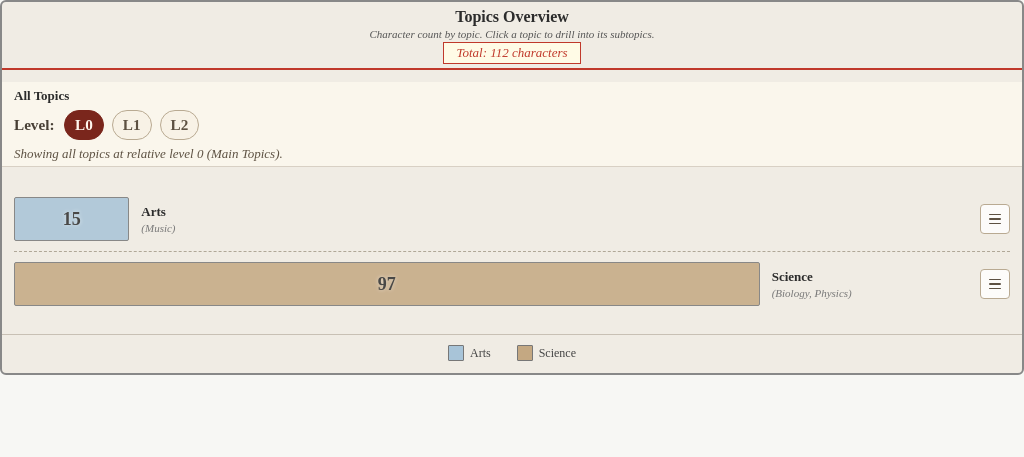
TopicsBarChart › preserves the selected relative level when navigating back through breadcrumbs
The image size is (1024, 457).
Click the button with test id "topics-bar-chart-row-science". click: click(492, 284)
box: [14,262,970,306]
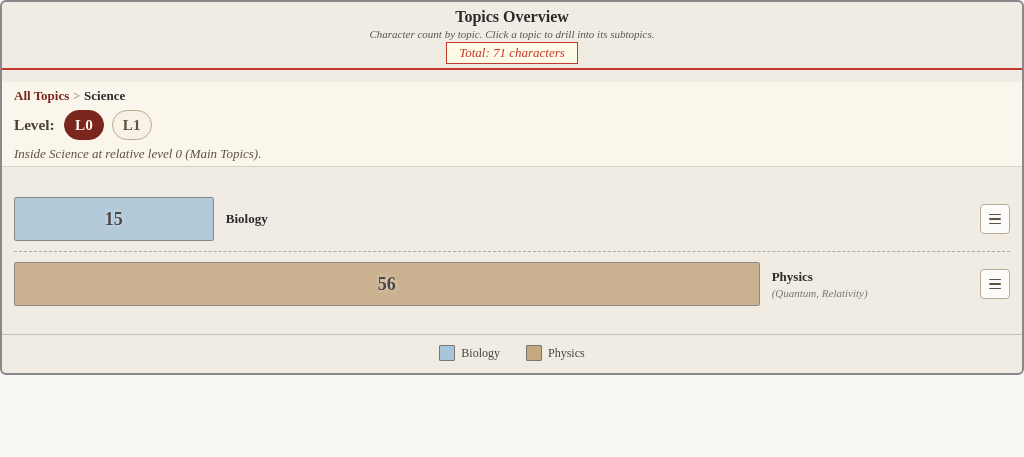
Click the button "L1". click: click(132, 125)
box: [112,110,152,140]
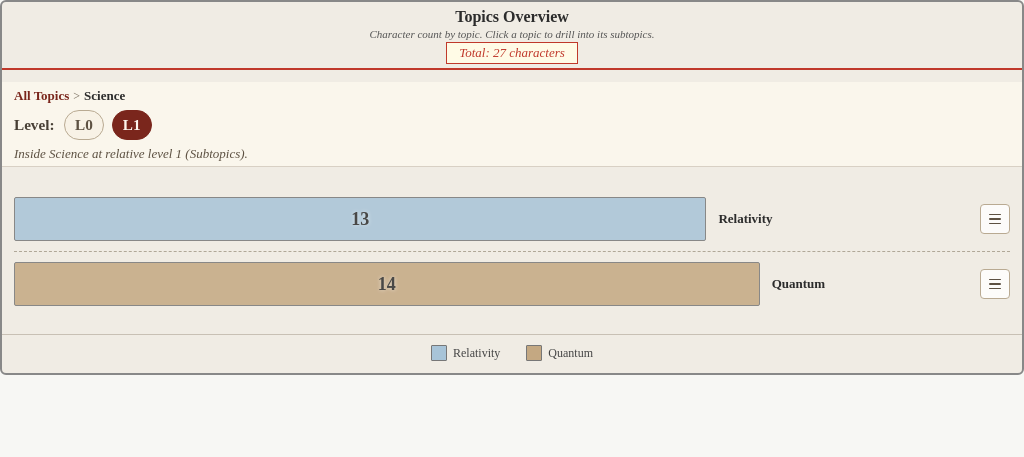
Click the button "All Topics". click: click(42, 96)
box: [14,88,69,104]
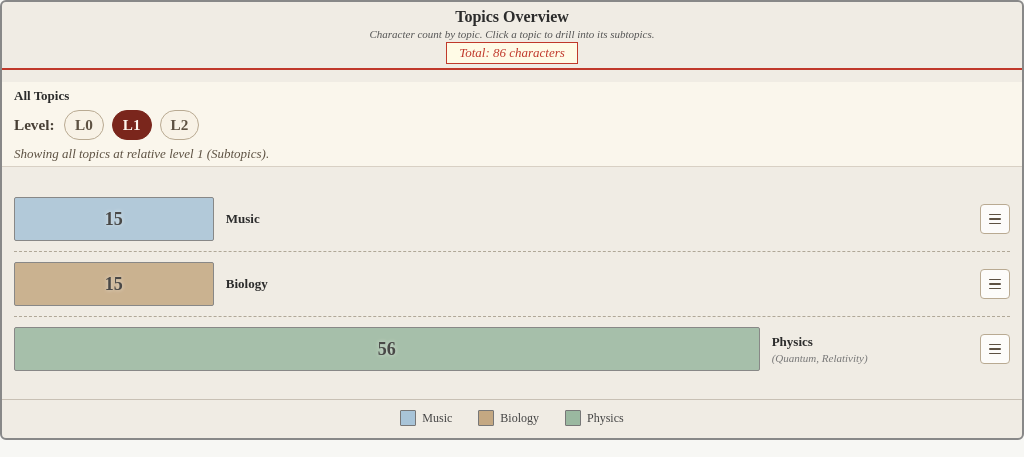
Check: the text "Showing all topics at relative level 1 (Subtopics)." is shown, box [14,146,269,161]
Check: the 1st text "Music" is shown, box [226,211,260,226]
